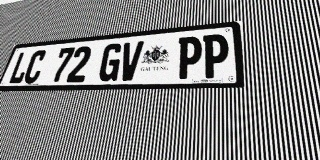2: (66, 46, 93, 82)
7: (49, 47, 75, 83)
C: (22, 50, 48, 84)
G: (97, 43, 124, 81)
L: (7, 51, 33, 84)
P: (202, 33, 229, 78), (176, 36, 202, 79)
V: (117, 41, 144, 81)
